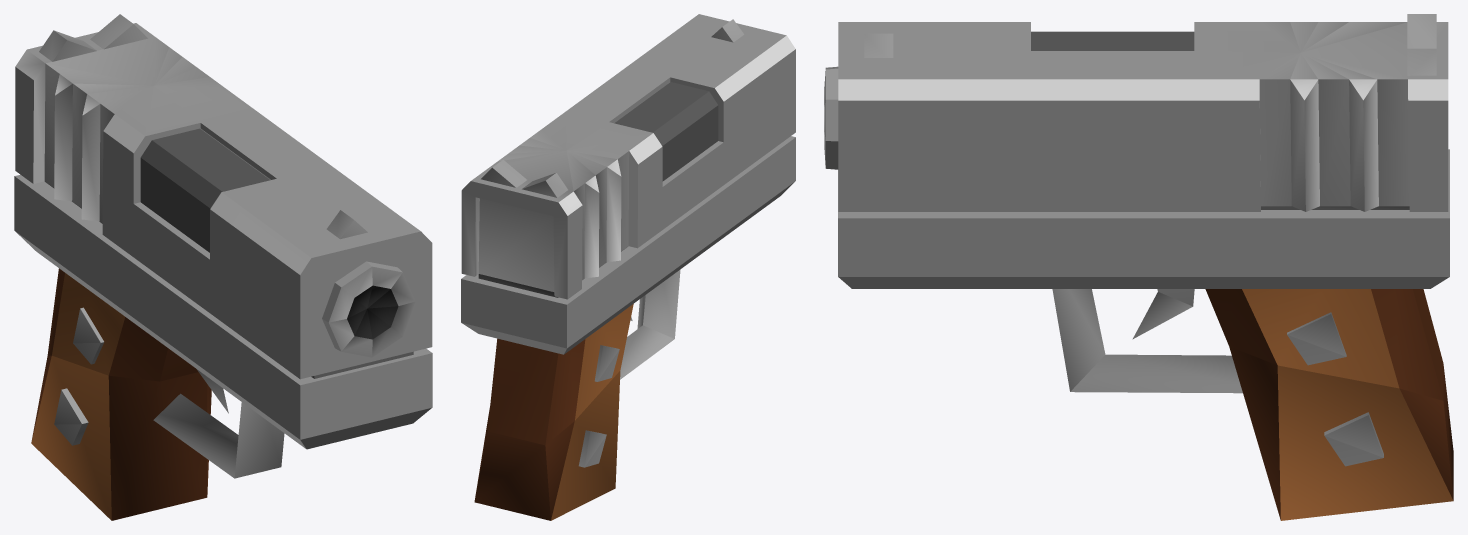
Rendered from Gun01.glb.
The picture shows the model from 3 angles, left to right: view 1: azimuth 30°, elevation 25°; view 2: azimuth 150°, elevation 25°; view 3: azimuth 270°, elevation 25°; orthographic projection. The views are drawn at different scales.
Parts seen in each view (by area): view 1: Gun01; view 2: Gun01; view 3: Gun01.
Boxes of the visible parts, <box> form: Gun01: <box>14,14,432,520</box>; Gun01: <box>461,14,795,520</box>; Gun01: <box>824,14,1453,520</box>.
Bounding box in the file's own units: 0.1137 × 0.3565 × 0.4376.
1 material, 1 textured.
